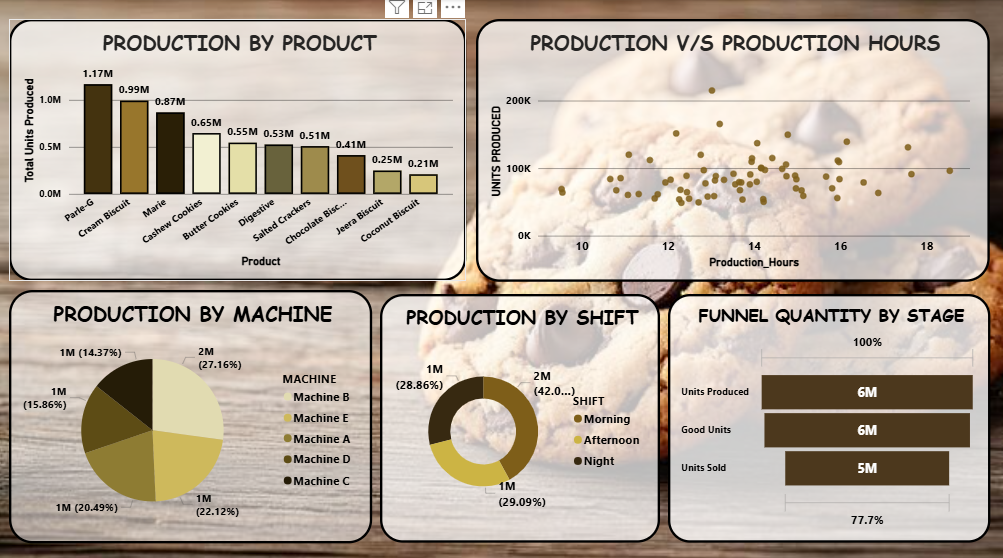

The page's visual inventory and layout, read from the dashboard file:
{"tool":"powerbi","page":{"name":"Production Analysis","canvas":[1280,720],"ordinal":1},"visuals":[{"type":"clusteredColumnChart","title":"PRODUCTION BY PRODUCT","fields":{"Category":["Biscuit_Manufacturing_1000_Records.Product"],"Y":["Sum(Biscuit_Manufacturing_1000_Records.Units_Produced)"]},"box":[12.7,25.5,582.6,334],"z":0},{"type":"pieChart","title":"PRODUCTION BY MACHINE","fields":{"Category":["Biscuit_Manufacturing_1000_Records.Machine"],"Y":["Sum(Biscuit_Manufacturing_1000_Records.Units_Produced)"]},"box":[12.7,371,462.8,322.5],"z":1000},{"type":"donutChart","title":"PRODUCTION BY SHIFT","fields":{"Category":["Biscuit_Manufacturing_1000_Records.Shift"],"Y":["Sum(Biscuit_Manufacturing_1000_Records.Units_Sold)"]},"box":[485.7,376.1,357,317.5],"z":2000},{"type":"scatterChart","title":"PRODUCTION V/S PRODUCTION HOURS","fields":{"X":["Biscuit_Manufacturing_1000_Records.Production_Hours"],"Y":["Sum(Biscuit_Manufacturing_1000_Records.Units_Produced)"]},"box":[608.1,25.5,655.3,335.3],"z":3000},{"type":"funnel","title":"FUNNEL QUANTITY BY STAGE","fields":{"Category":["Production Funnel.Stage"],"Y":["Production Funnel.Funnel Quantity"]},"box":[852.9,376.1,410.5,317.5],"z":4000}]}

Visuals, with their boxes in screenshot pixels (x1, y1, x2, y2), scaled from the page's 1280x720 canvas onto the 1003x558 screenshot:
"PRODUCTION BY PRODUCT" clusteredColumnChart: <region>10, 20, 466, 279</region>
"PRODUCTION BY MACHINE" pieChart: <region>10, 288, 373, 537</region>
"PRODUCTION BY SHIFT" donutChart: <region>381, 291, 660, 538</region>
"PRODUCTION V/S PRODUCTION HOURS" scatterChart: <region>477, 20, 990, 280</region>
"FUNNEL QUANTITY BY STAGE" funnel: <region>668, 291, 990, 538</region>
